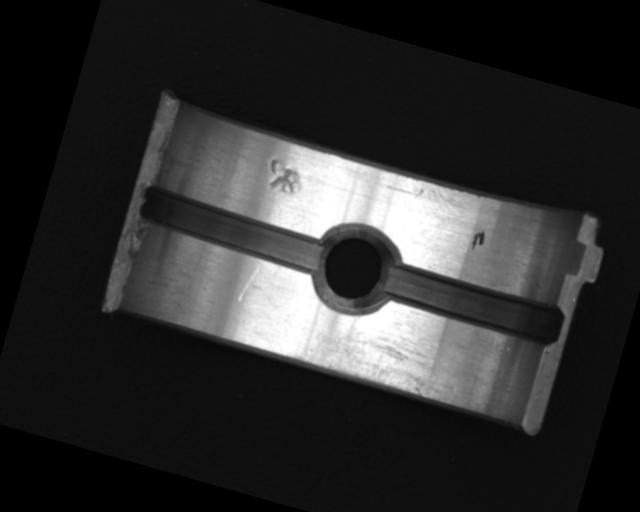blot: (468, 226, 487, 254)
bruise: (262, 155, 308, 198)
gap: (134, 180, 331, 277), (376, 257, 567, 348)
hole: (301, 214, 408, 323)
nick: (237, 257, 263, 305)
scratch: (285, 312, 468, 407)
